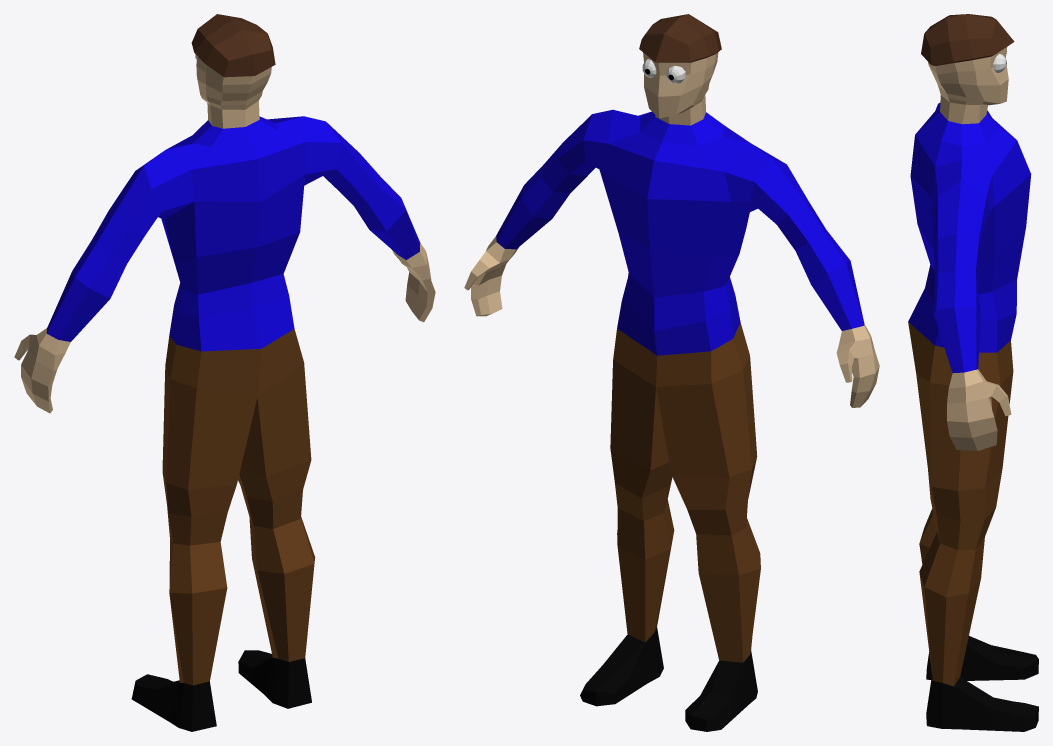
Rendered from VRGuy.fbx.
3 renders of one model, left to right at view 1: azimuth 30°, elevation 25°; view 2: azimuth 150°, elevation 25°; view 3: azimuth 270°, elevation 25°, orthographic.
Visible parts, largest first — view 1: Guy; view 2: Guy; view 3: Guy.
Part boxes in pixels (x1,y1,x2,y2): Guy: (14, 14, 435, 731); Guy: (464, 14, 879, 731); Guy: (908, 14, 1038, 731).
Size of the model in its own units: 3.45 by 0.9778 by 5.63.
